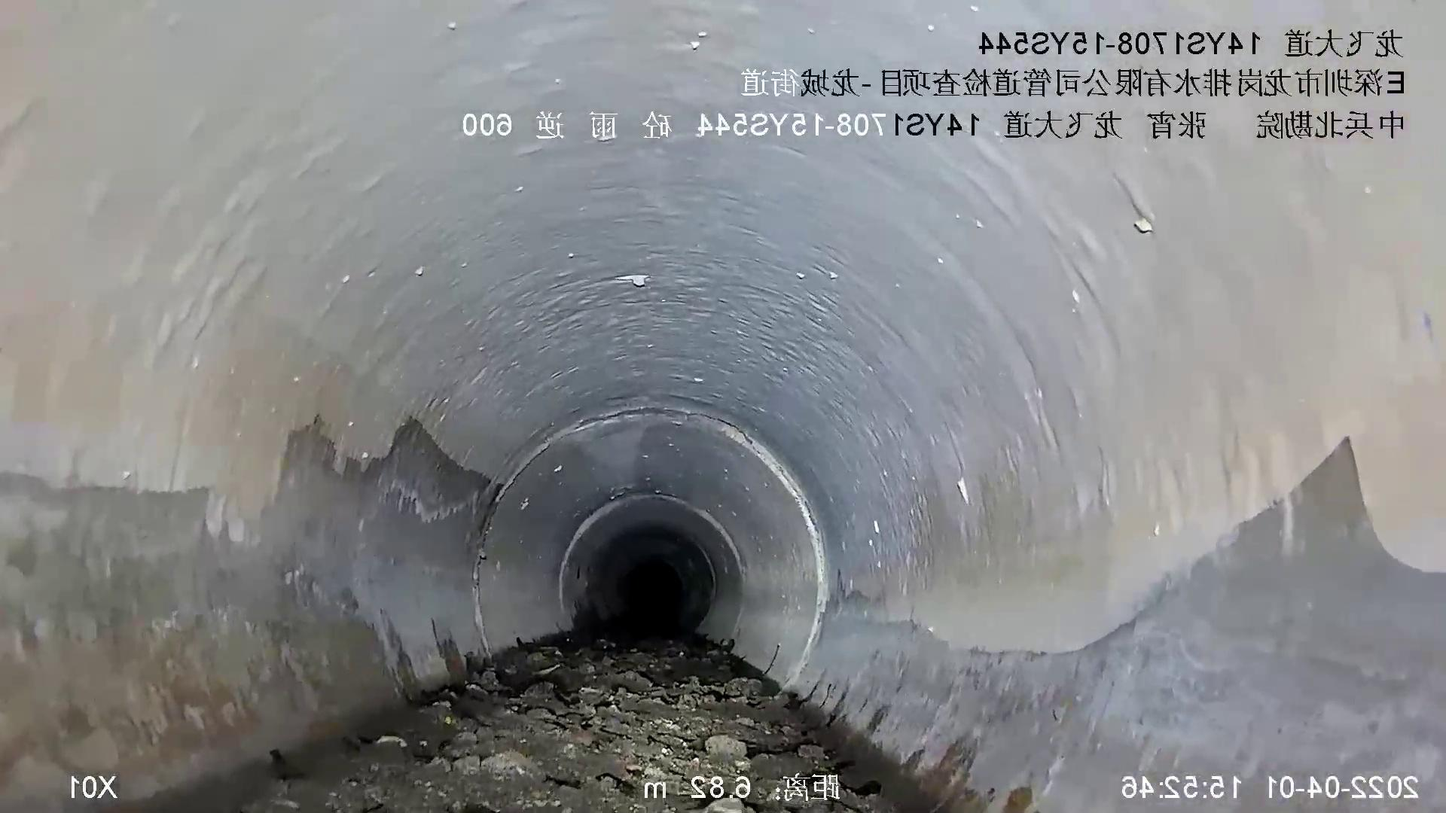CJ: (233, 638, 897, 812)
CKTJ: (466, 401, 832, 702), (555, 490, 750, 654)
